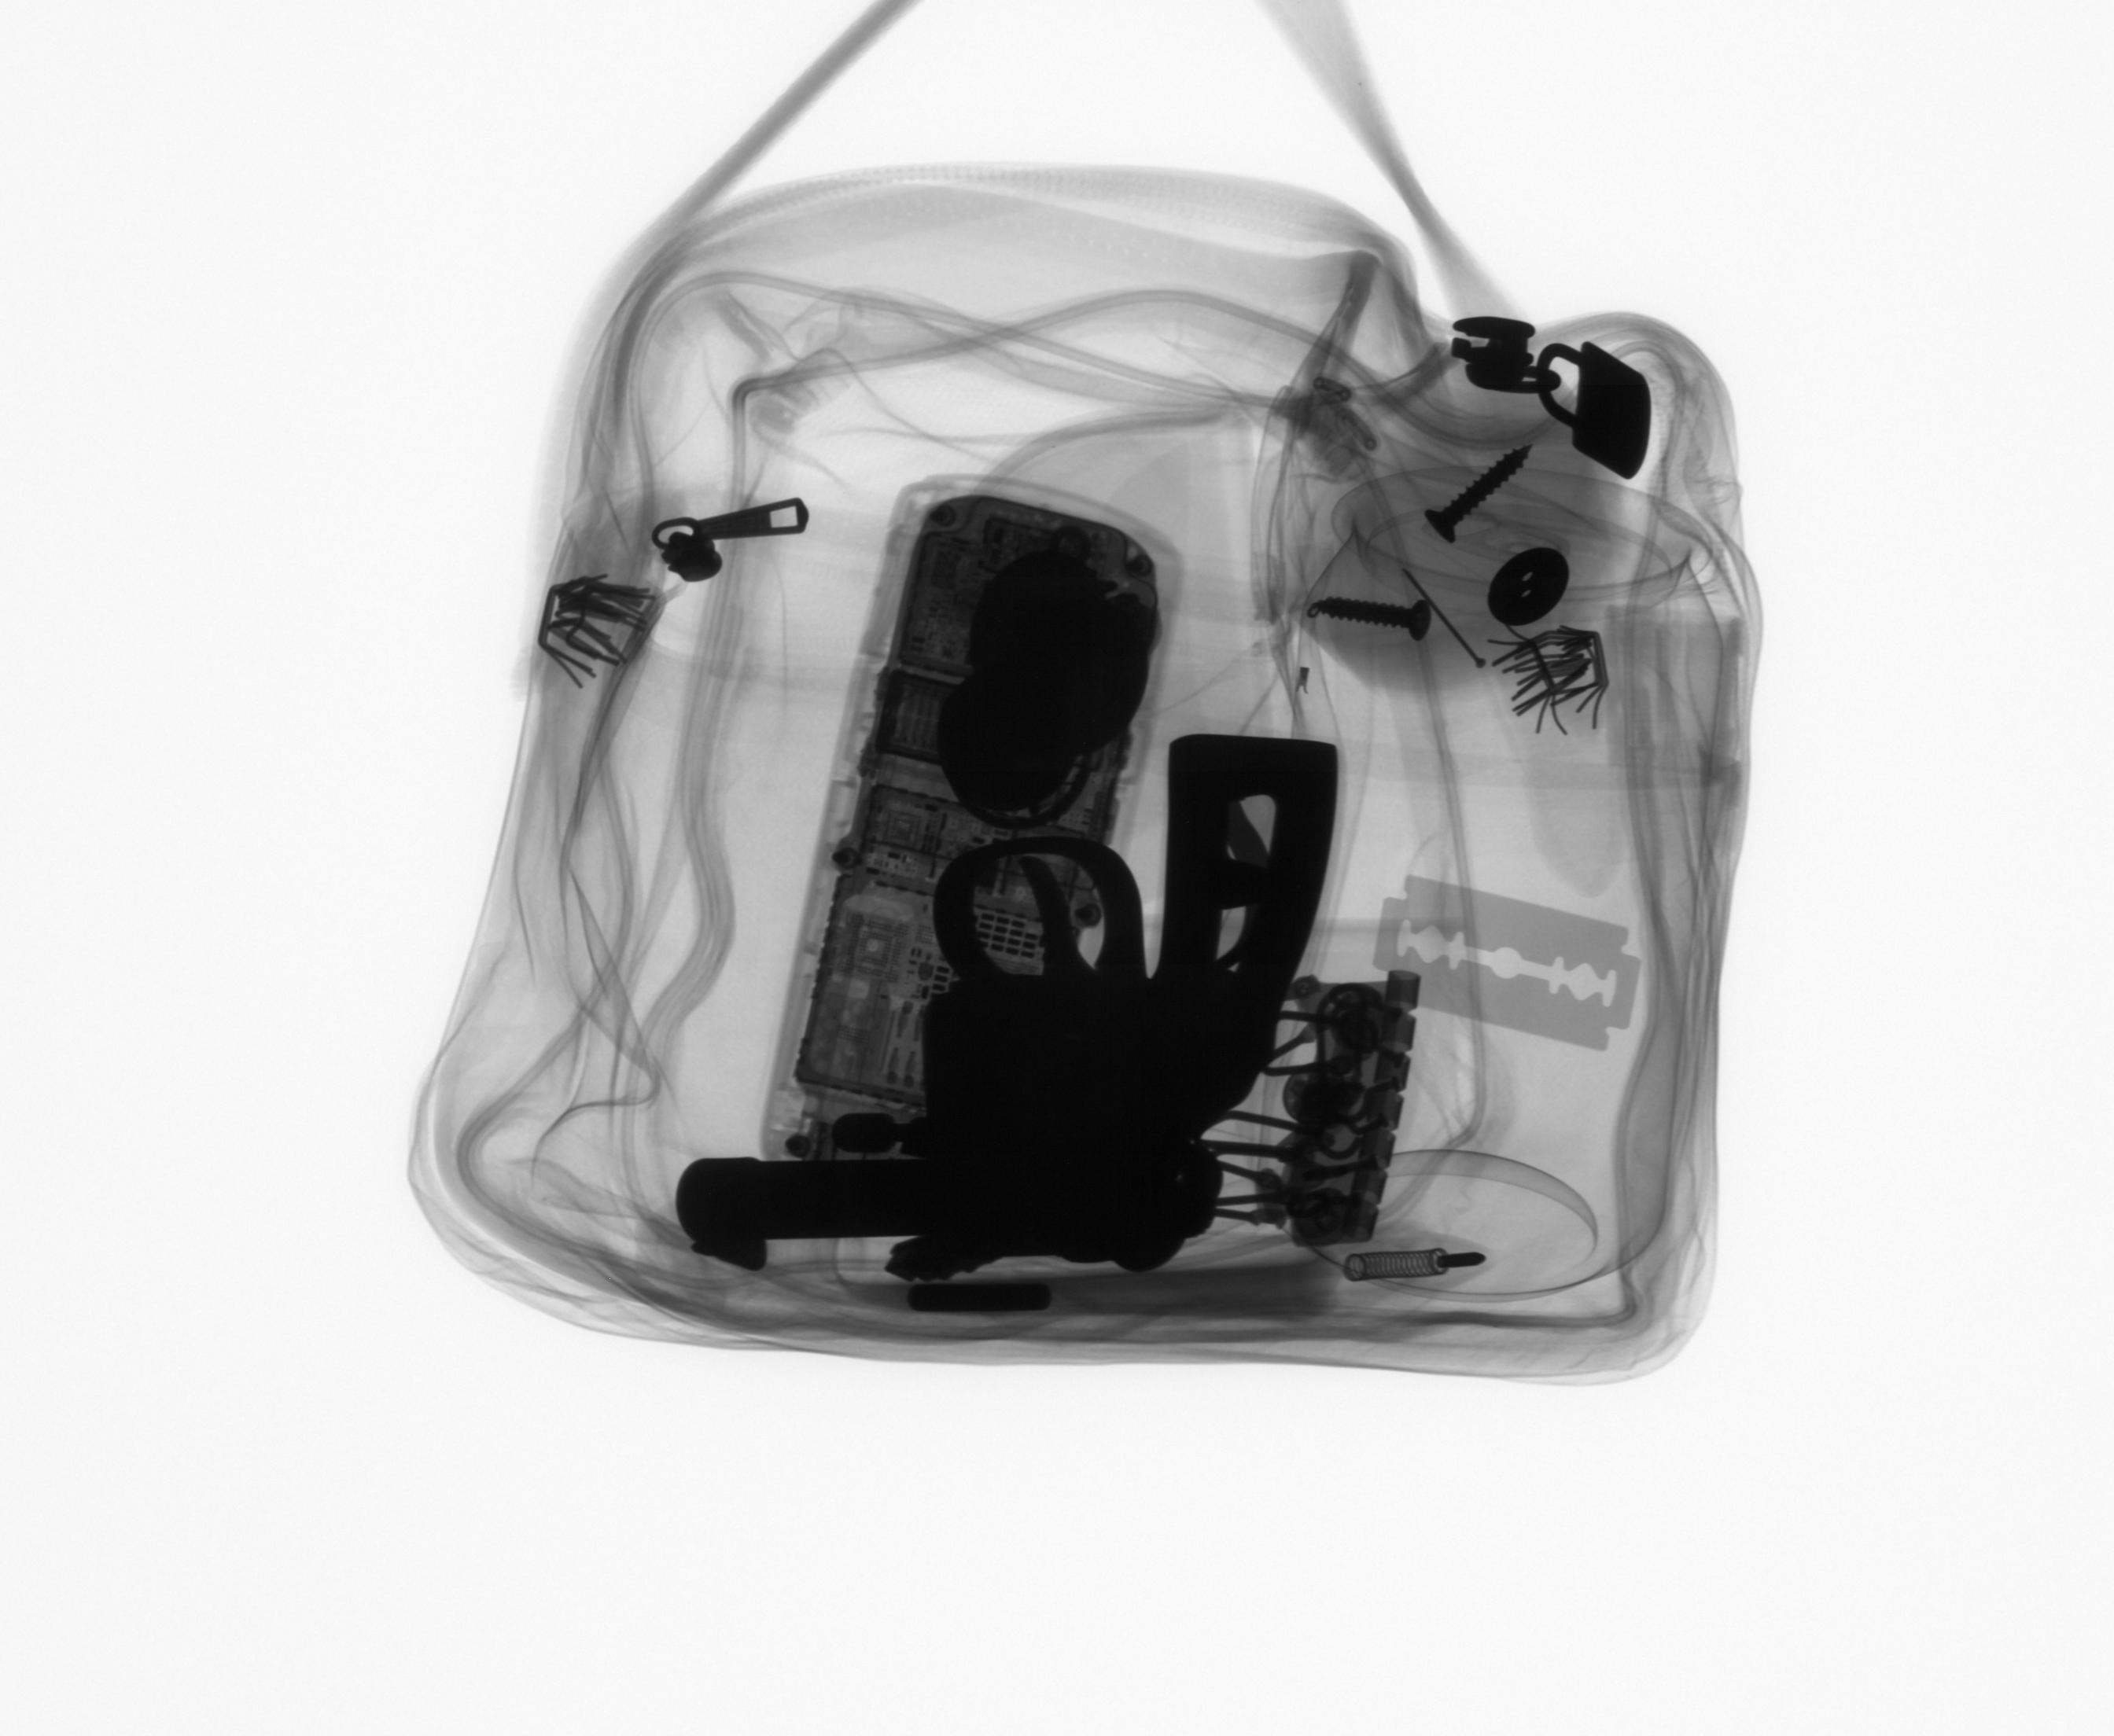Handgun: (669, 725, 1347, 1283)
RazorBlade: (1368, 869, 1647, 1058)
